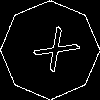X: (25, 25, 81, 81)
